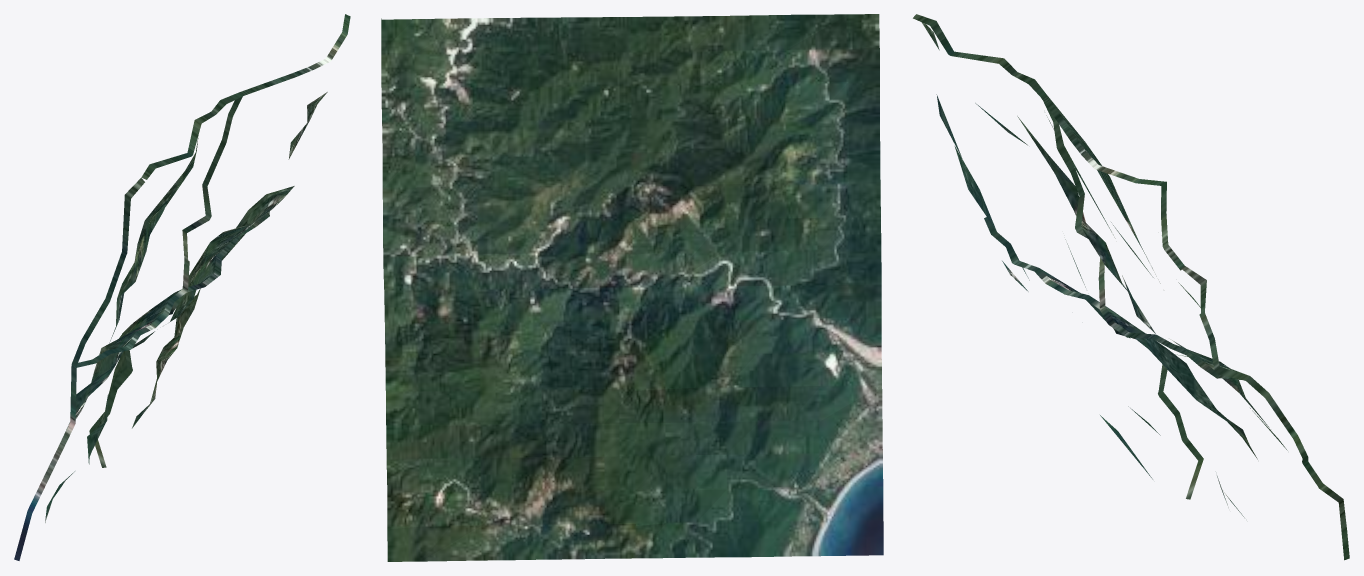
3 views of the same model, side by side, from view 1: azimuth 30°, elevation 25°; view 2: azimuth 150°, elevation 25°; view 3: azimuth 270°, elevation 25° (orthographic). The views are drawn at different scales.
Size of the model in its own units: 18582 by 19122 by 16667.
Materials: 1 (1 with a texture image).
